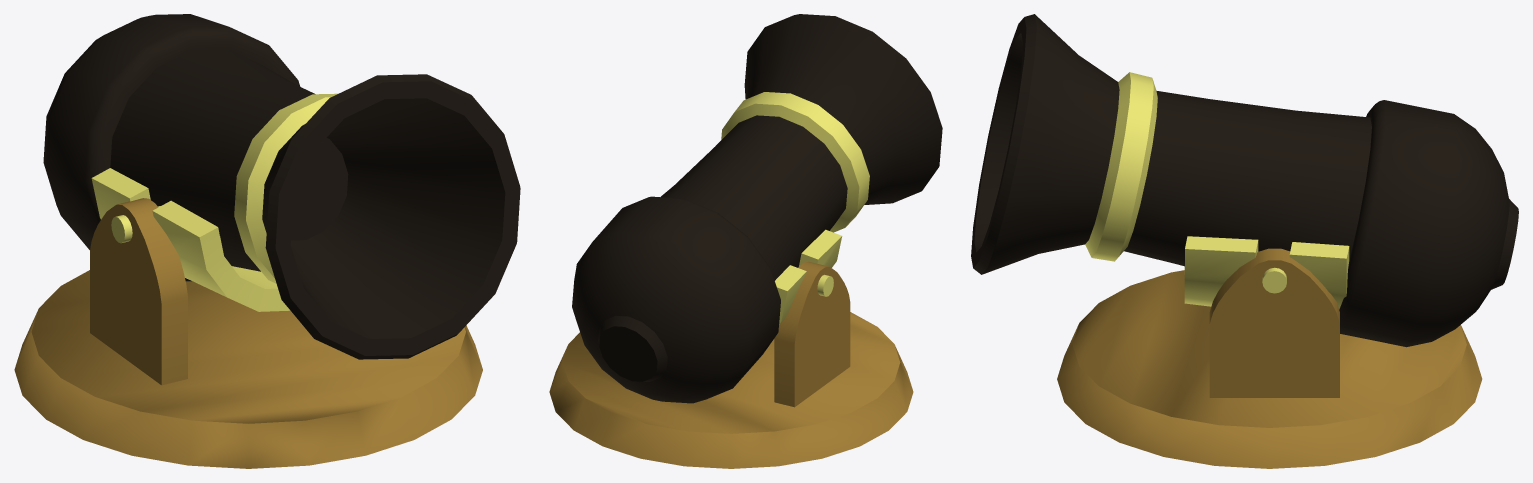
File: Cannon.fbx
3 views of the same model, side by side, from view 1: azimuth 30°, elevation 25°; view 2: azimuth 150°, elevation 25°; view 3: azimuth 270°, elevation 25° (orthographic). The views are drawn at different scales.
Visible parts, largest first — view 1: Cylinder.004, Cylinder, Cube, Cylinder.002; view 2: Cylinder.004, Cylinder, Cube, Cylinder.002; view 3: Cylinder.004, Cylinder, Cube, Cylinder.002.
Part boxes in pixels (x1,y1,x2,y2): Cylinder.004: (43,14,520,359); Cylinder: (14,270,482,468); Cube: (90,198,187,385); Cylinder.002: (91,168,290,311); Cylinder.004: (572,14,942,403); Cylinder: (549,312,913,468); Cube: (774,261,850,407); Cylinder.002: (775,229,842,325); Cylinder.004: (971,14,1518,347); Cylinder: (1057,270,1482,468); Cube: (1209,248,1339,397); Cylinder.002: (1184,236,1349,309).
Bounding box in the file's own units: 168 × 153 × 216.
